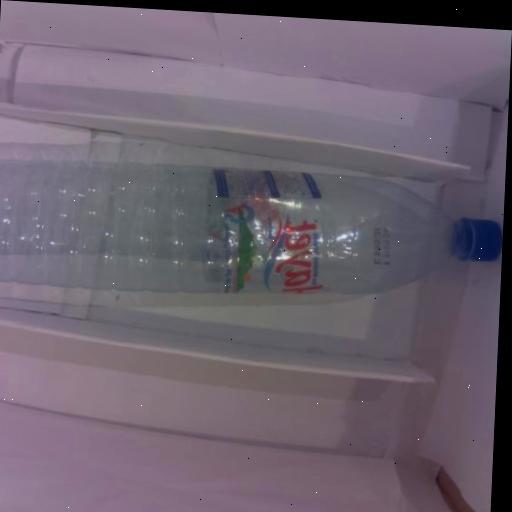bottle: (0, 110, 507, 358)
